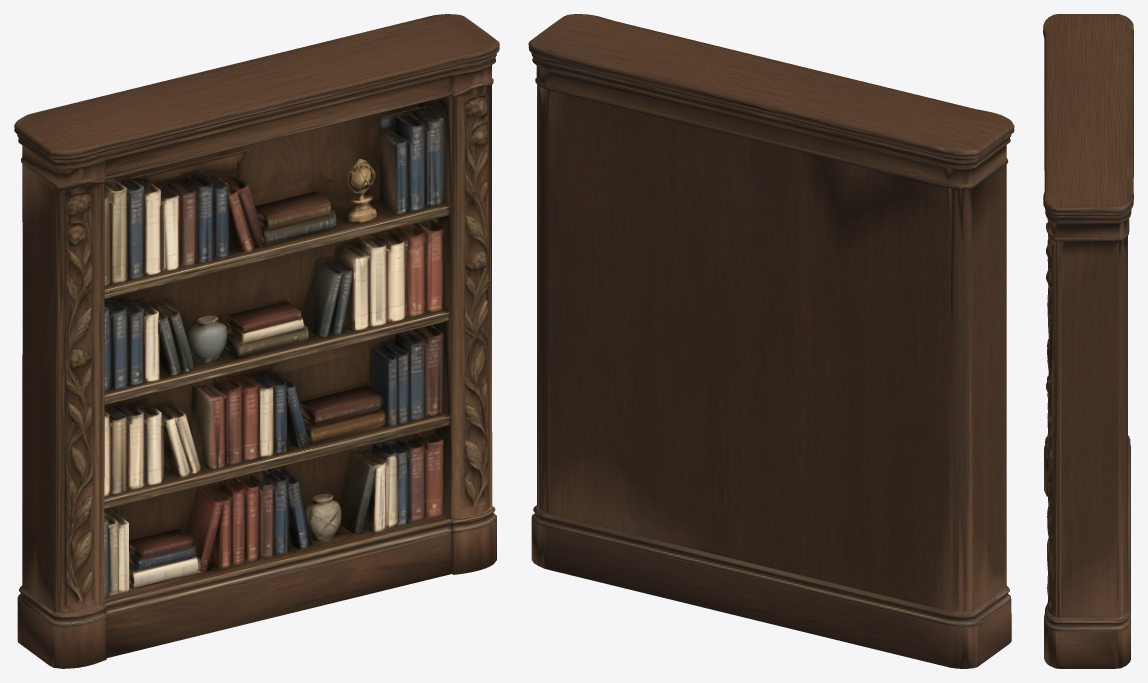
Rendered from bookcase-v1.glb.
3 views of the same model, side by side, from view 1: azimuth 30°, elevation 25°; view 2: azimuth 150°, elevation 25°; view 3: azimuth 270°, elevation 25° (orthographic). The views are drawn at different scales.
Visible parts, largest first — view 1: bookcase metre normalization; view 2: bookcase metre normalization; view 3: bookcase metre normalization.
Part boxes in pixels (x1,y1,x2,y2): bookcase metre normalization: (14, 14, 499, 668); bookcase metre normalization: (528, 14, 1014, 668); bookcase metre normalization: (1043, 14, 1133, 668).
Size of the model in its own units: 2.55 by 2.8 by 0.5.
Materials: 1 (1 with a texture image).
